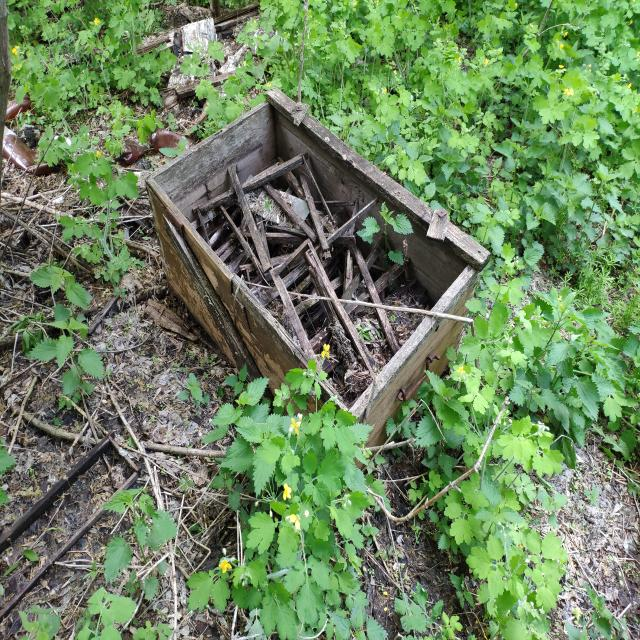entulho: (132, 95, 501, 476), (125, 4, 235, 64)
restos de madeira: (1, 429, 122, 556), (12, 410, 222, 462), (2, 190, 99, 302)
